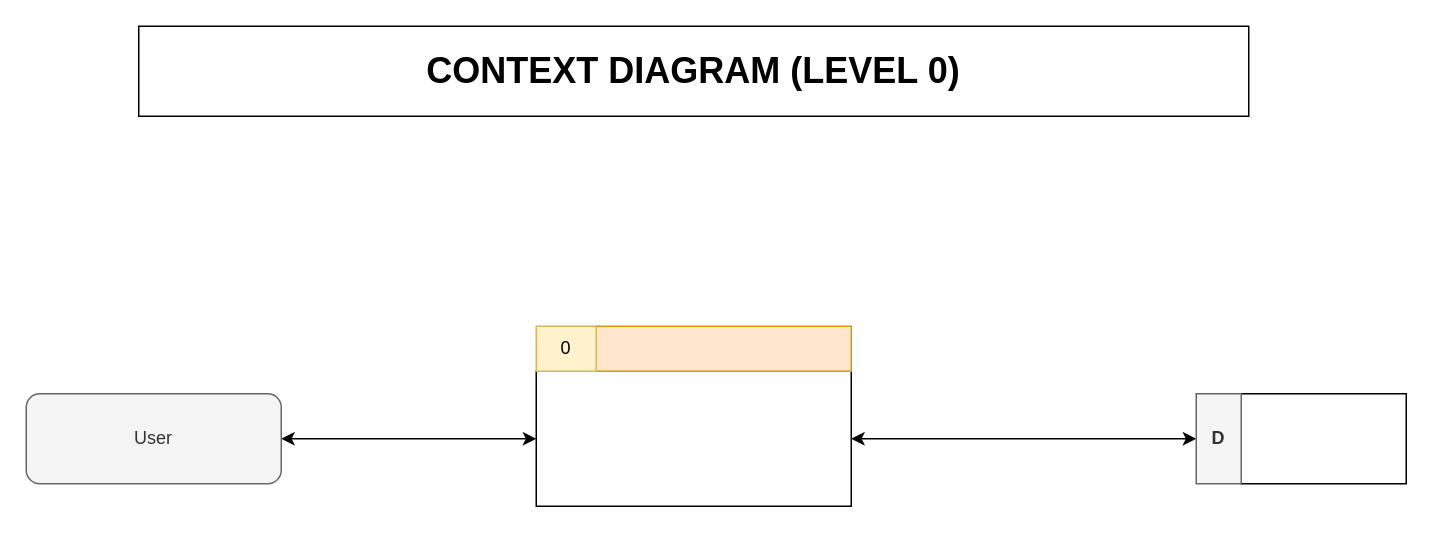
This 1433x533 diagram has some shape labels left out. The centre of each missing label's shape, as x and y in pixels:
"ATM Database" goes at (1323,438).
"Finger-Print Based ATM Simulator" goes at (693,438).
